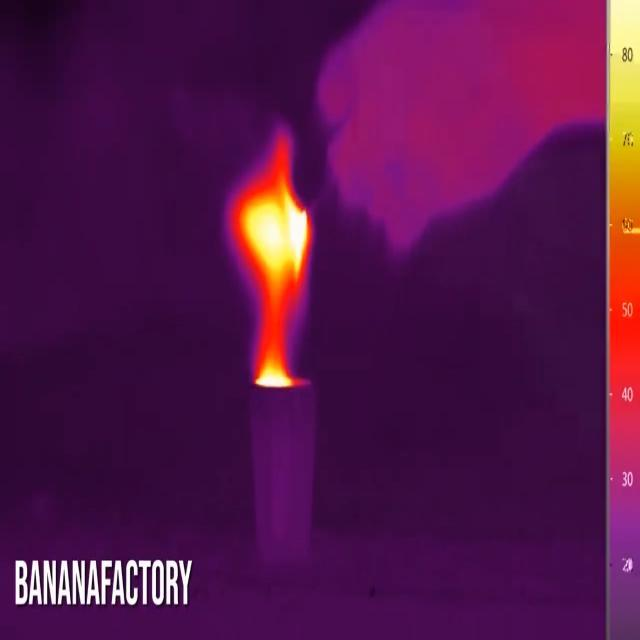fire: (222, 122, 316, 395)
